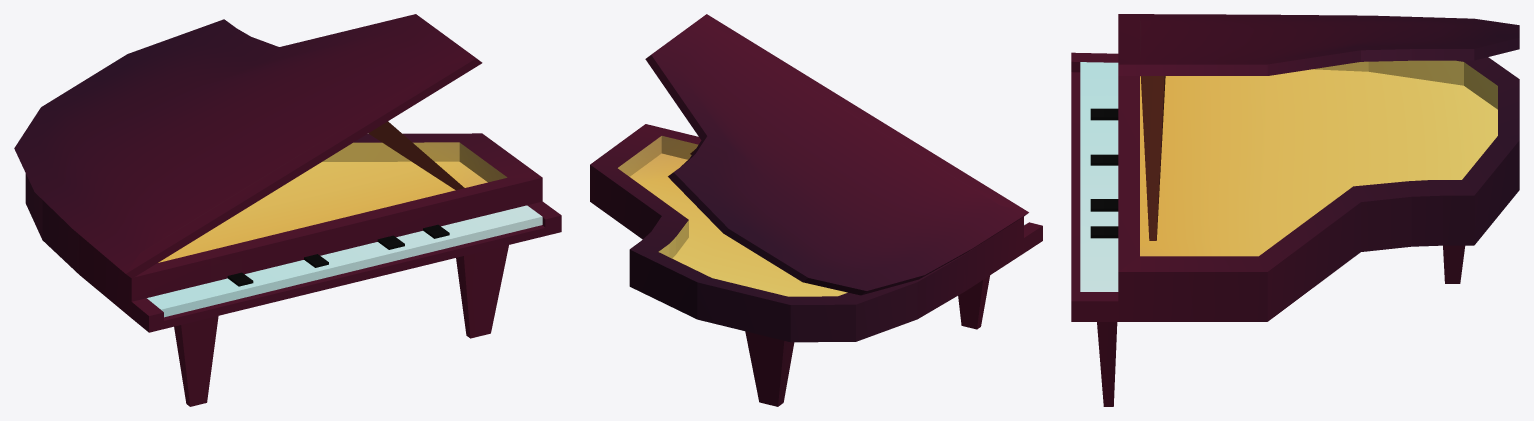
The model's file is piano_wide.fbx.
3 renders of one model, left to right at view 1: azimuth 30°, elevation 25°; view 2: azimuth 150°, elevation 25°; view 3: azimuth 270°, elevation 25°, orthographic. The views are drawn at different scales.
Visible parts, largest first — view 1: Cube; view 2: Cube; view 3: Cube.
Boxes of the visible parts, x1,y1,x2,y2 form: Cube: (14,14,561,406); Cube: (590,14,1042,406); Cube: (1071,14,1519,406).
Bounding box in the file's own units: 3.61 × 2.72 × 2.26.
Materials: 1 (1 with a texture image).
